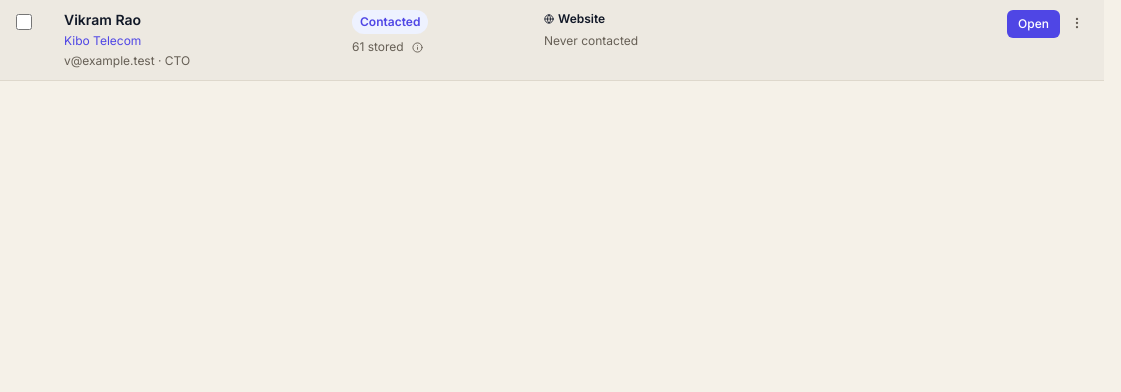
Test: LeadTableRow (Figma "Lead row") › "Open" opens the lead; Edit goes to the editor; Assign owner and Add tag stay "coming soon"
Click the button with aria-label "Open Vikram Rao": (1034, 24) [1007,10,1060,38]
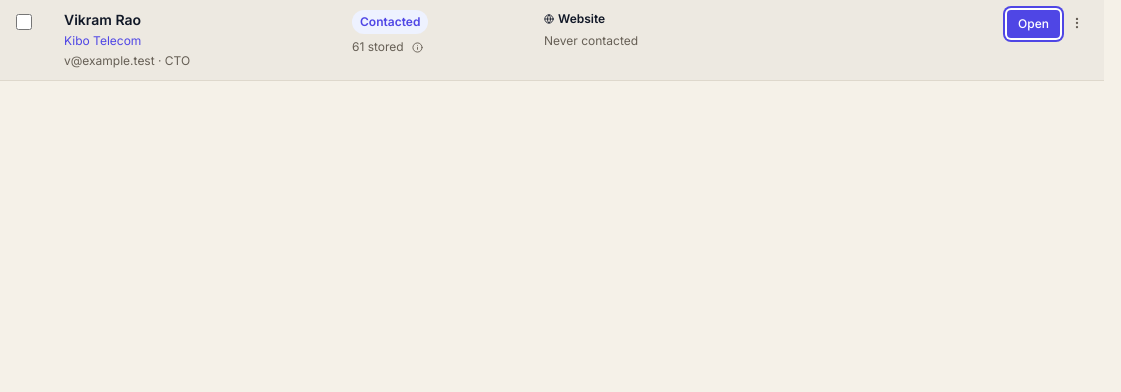
Click the button named "More actions for Vikram Rao": (1077, 23) [1066,12,1088,34]
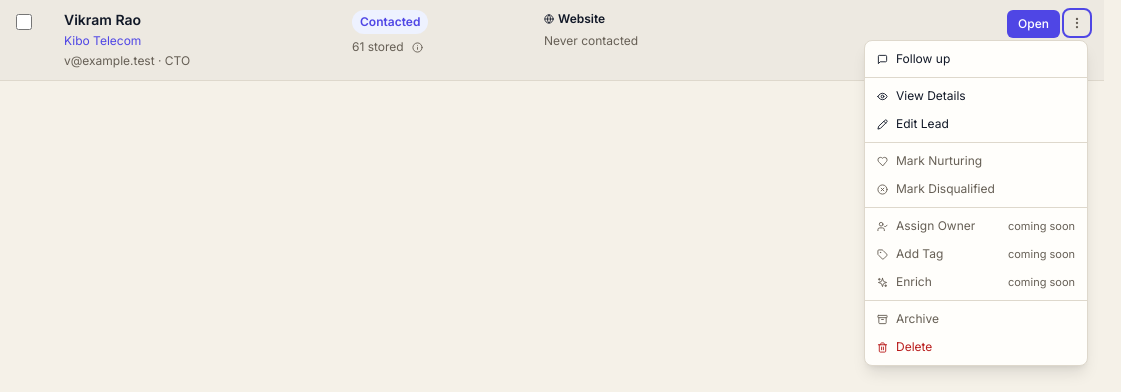
Result: the menu item "Edit Lead" is enabled
Click the menu item "Edit Lead": (976, 124) [865,110,1087,138]
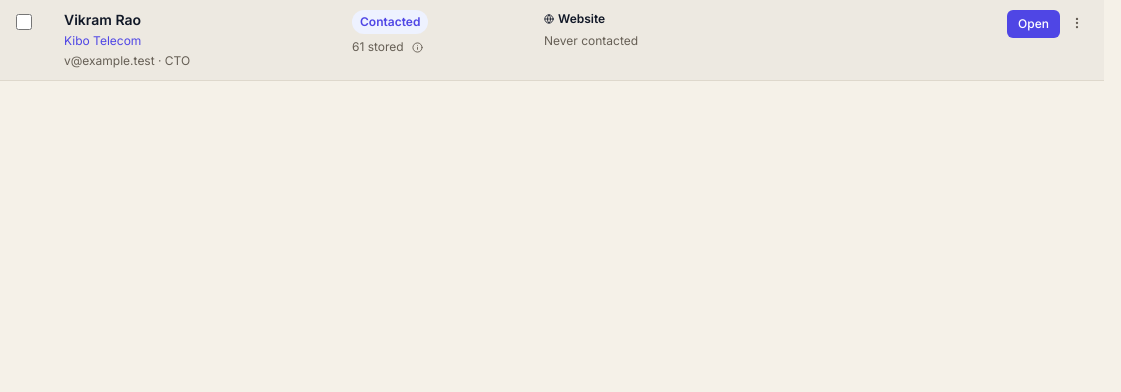
Click the button named "More actions for Vikram Rao": (1077, 23) [1066,12,1088,34]
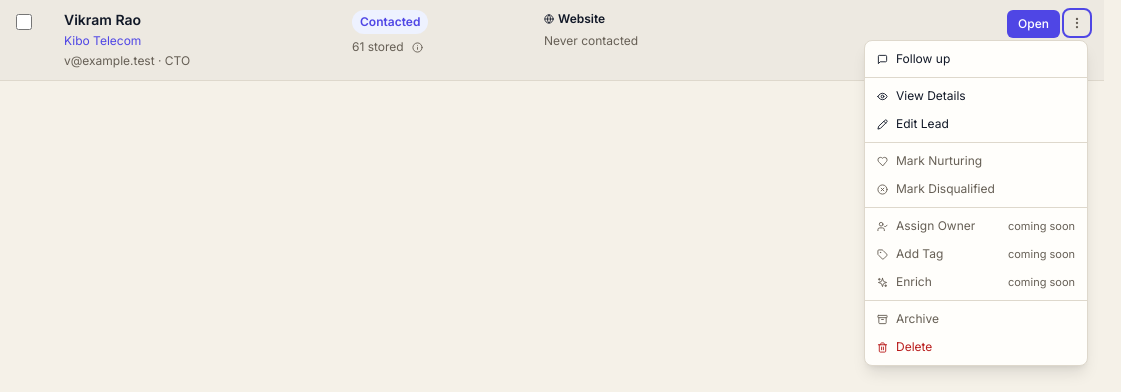
Result: the menu item "Assign Owner coming soon" is disabled at [865,212,1087,240]
Result: the menu item "Add Tag coming soon" is disabled at [865,240,1087,268]
Result: the menu item "Enrich coming soon" is disabled at [865,268,1087,296]
